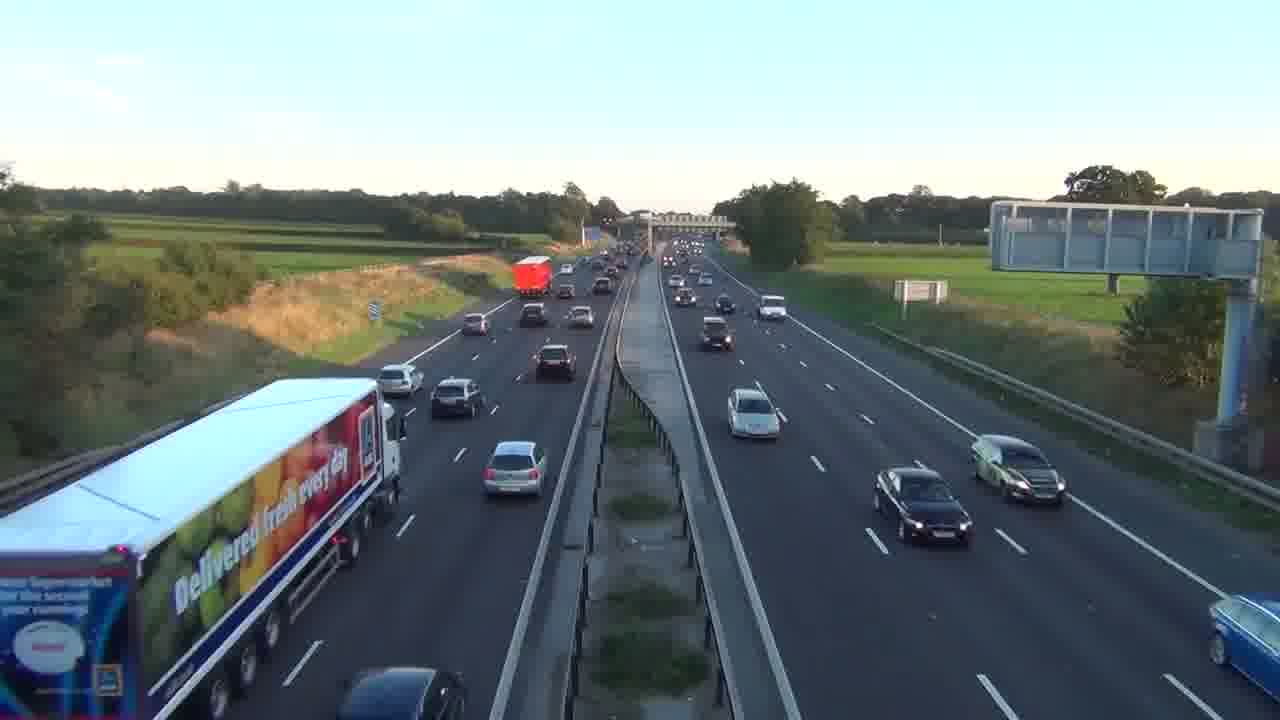bus: (2, 375, 387, 715)
car: (873, 462, 976, 548), (969, 432, 1067, 507), (336, 666, 469, 718), (480, 439, 548, 498), (725, 385, 785, 441), (430, 376, 485, 420), (532, 341, 576, 382), (564, 304, 595, 329), (519, 303, 548, 327)
truck: (1207, 591, 1279, 702)
